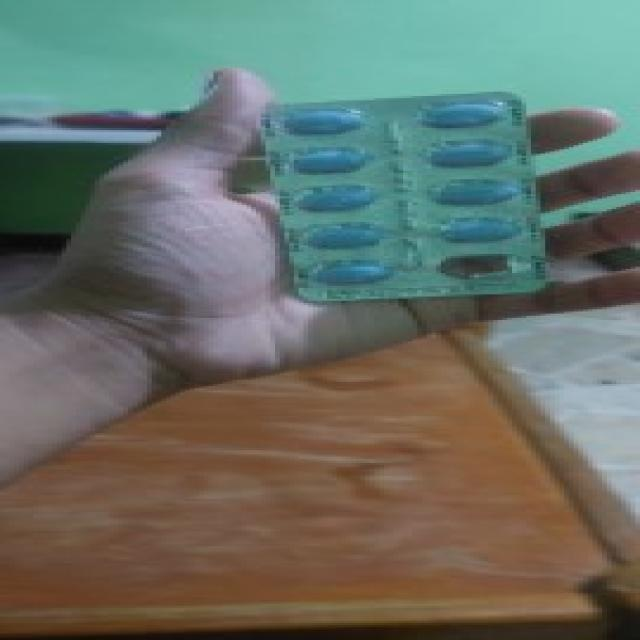Cacat: (262, 90, 560, 303)
Kemasan: (431, 250, 536, 286)
